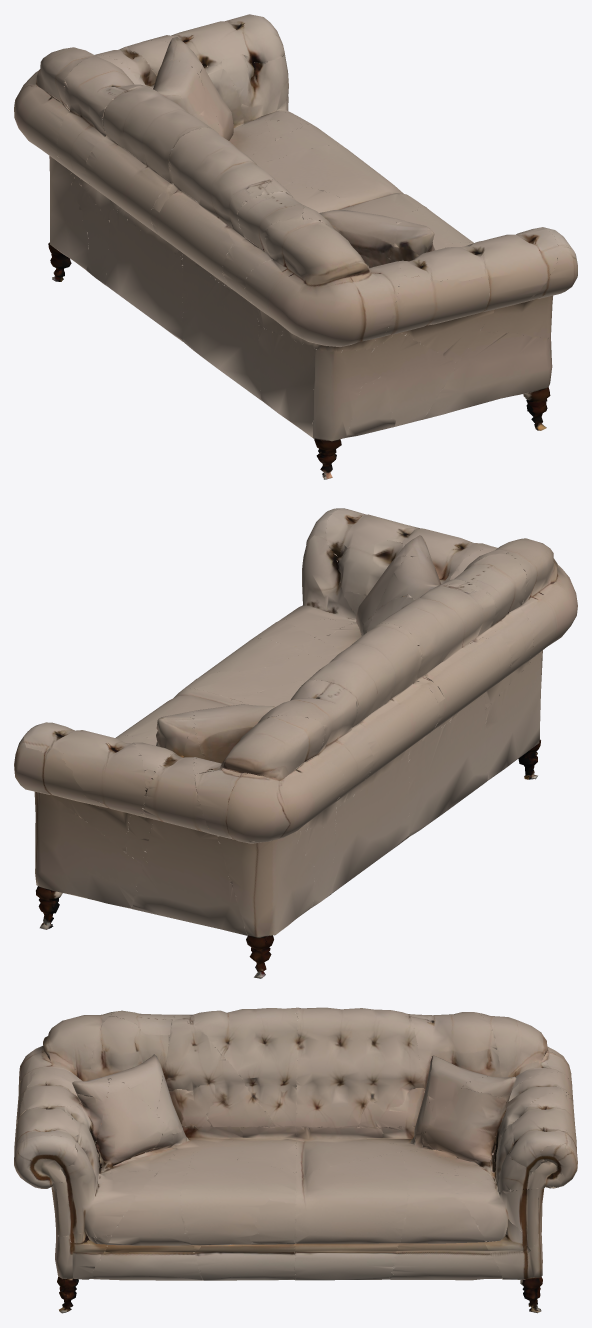
Rendered from sofa-tripo.glb.
3 views of the same model, one above another, from view 1: azimuth 30°, elevation 25°; view 2: azimuth 150°, elevation 25°; view 3: azimuth 270°, elevation 25° (orthographic). The views are drawn at different scales.
Visible parts, largest first — view 1: tripo_node_d73cb66a-e968-45a0-aca5-2f187d941df9; view 2: tripo_node_d73cb66a-e968-45a0-aca5-2f187d941df9; view 3: tripo_node_d73cb66a-e968-45a0-aca5-2f187d941df9.
Boxes of the visible parts, left/top/right/bottom form: tripo_node_d73cb66a-e968-45a0-aca5-2f187d941df9: left=14, top=14, right=577, bottom=479; tripo_node_d73cb66a-e968-45a0-aca5-2f187d941df9: left=14, top=508, right=577, bottom=978; tripo_node_d73cb66a-e968-45a0-aca5-2f187d941df9: left=14, top=1007, right=577, bottom=1313.
Bounding box in the file's own units: 0.4774 × 0.4207 × 0.9999.
Materials: 1 (1 with a texture image).
